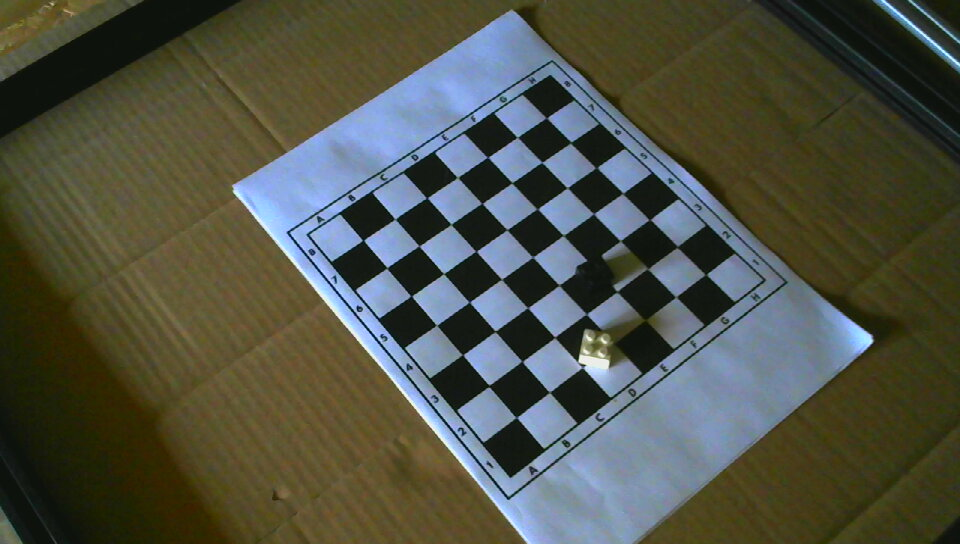bp: (573, 257, 617, 298)
wp: (577, 326, 614, 370)
